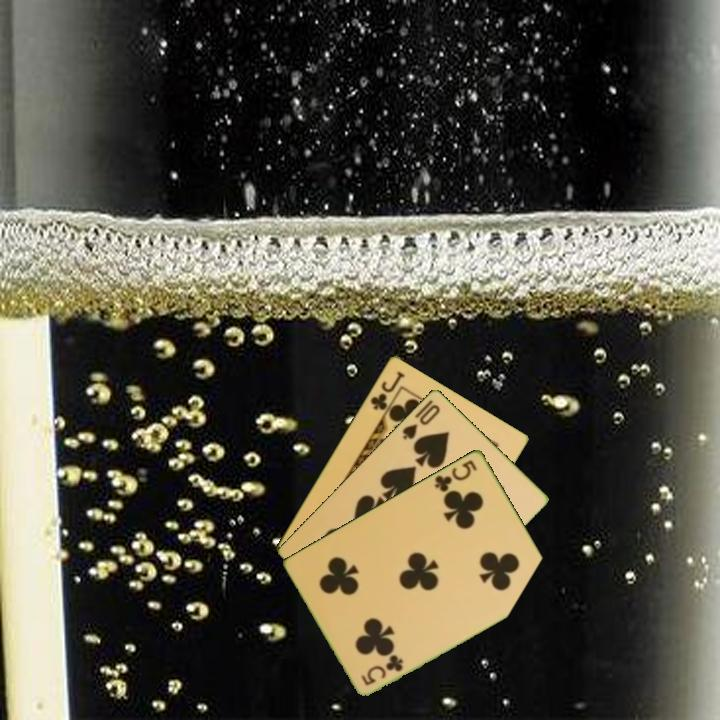10s: (399, 401, 443, 442)
5c: (431, 456, 480, 495), (357, 651, 407, 688)
Jc: (366, 367, 407, 413)
